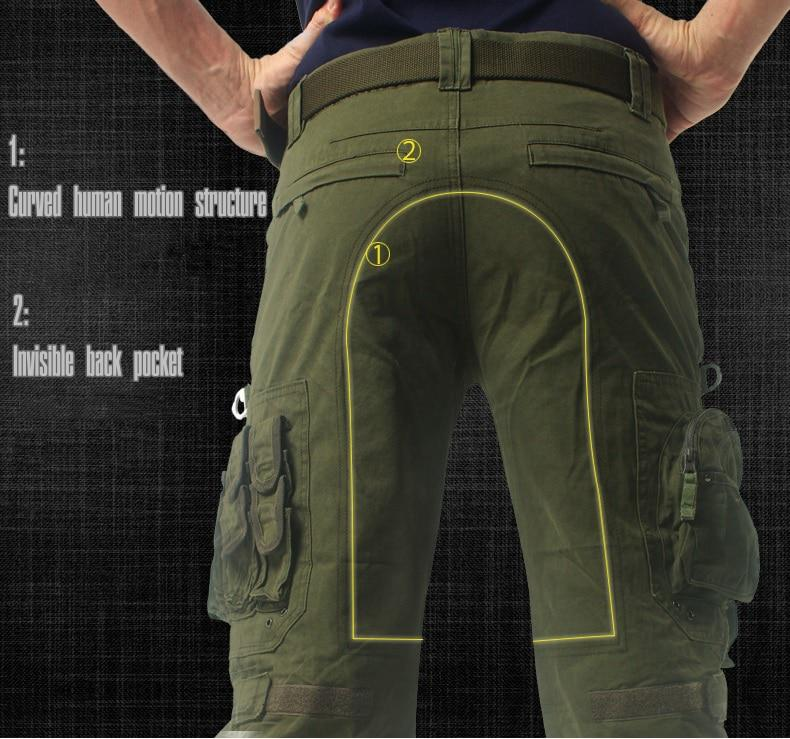pants: (228, 59, 733, 739)
